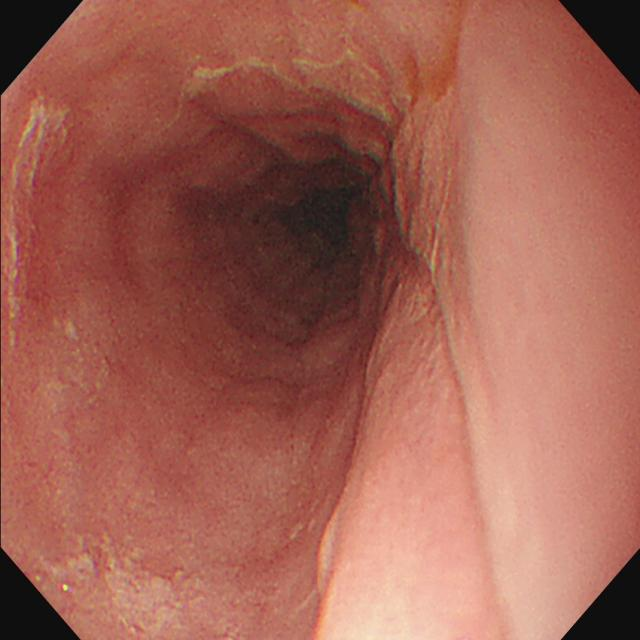E: (258, 164, 361, 260)
J: (7, 101, 73, 349), (182, 53, 393, 126), (52, 537, 180, 635)
